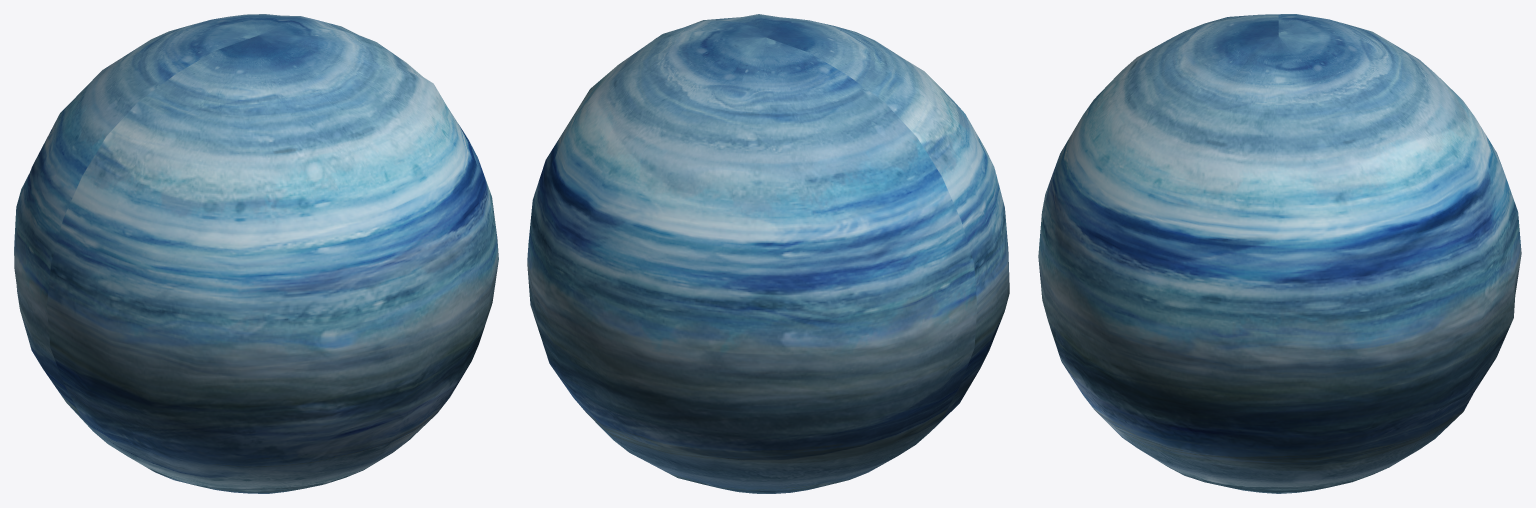
File: urano.gltf
3 renders of one model, left to right at view 1: azimuth 30°, elevation 25°; view 2: azimuth 150°, elevation 25°; view 3: azimuth 270°, elevation 25°, orthographic.
Visible parts, largest first — view 1: urano.001; view 2: urano.001; view 3: urano.001.
Part boxes in pixels (box(x1,y1,x2,y2)): urano.001: box(14, 14, 498, 493); urano.001: box(527, 14, 1009, 493); urano.001: box(1038, 14, 1521, 493).
Bounding box in the file's own units: 2.02 × 2.01 × 2.02.
1 material, 1 textured.
